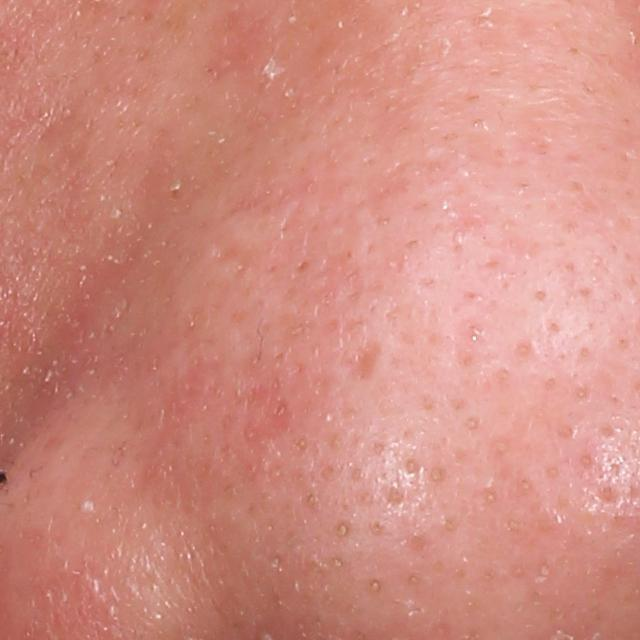atrophic_scar: (335, 321, 382, 384)
comedo: (328, 517, 356, 543)
